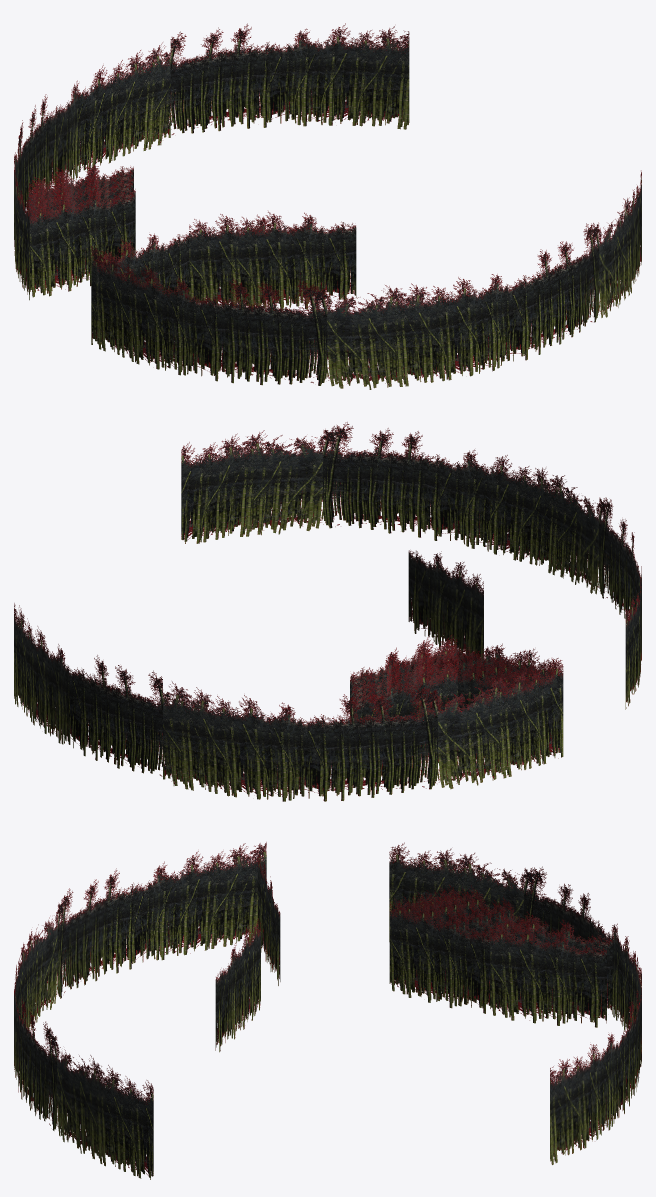
Rendered from CombinedMesh-MeshBaker (0)-mesh.fbx.
The picture shows the model from 3 angles, top to bottom: view 1: azimuth 30°, elevation 25°; view 2: azimuth 150°, elevation 25°; view 3: azimuth 270°, elevation 25°; orthographic projection.
Visible parts, largest first — view 1: MeshBaker__0__mesh_mesh; view 2: MeshBaker__0__mesh_mesh; view 3: MeshBaker__0__mesh_mesh.
Part boxes in pixels (x1=…): MeshBaker__0__mesh_mesh: x1=14, y1=23, x2=641, y2=389; MeshBaker__0__mesh_mesh: x1=14, y1=422, x2=641, y2=801; MeshBaker__0__mesh_mesh: x1=14, y1=842, x2=641, y2=1179.
Size of the model in its own units: 8602 by 1858 by 9493.
